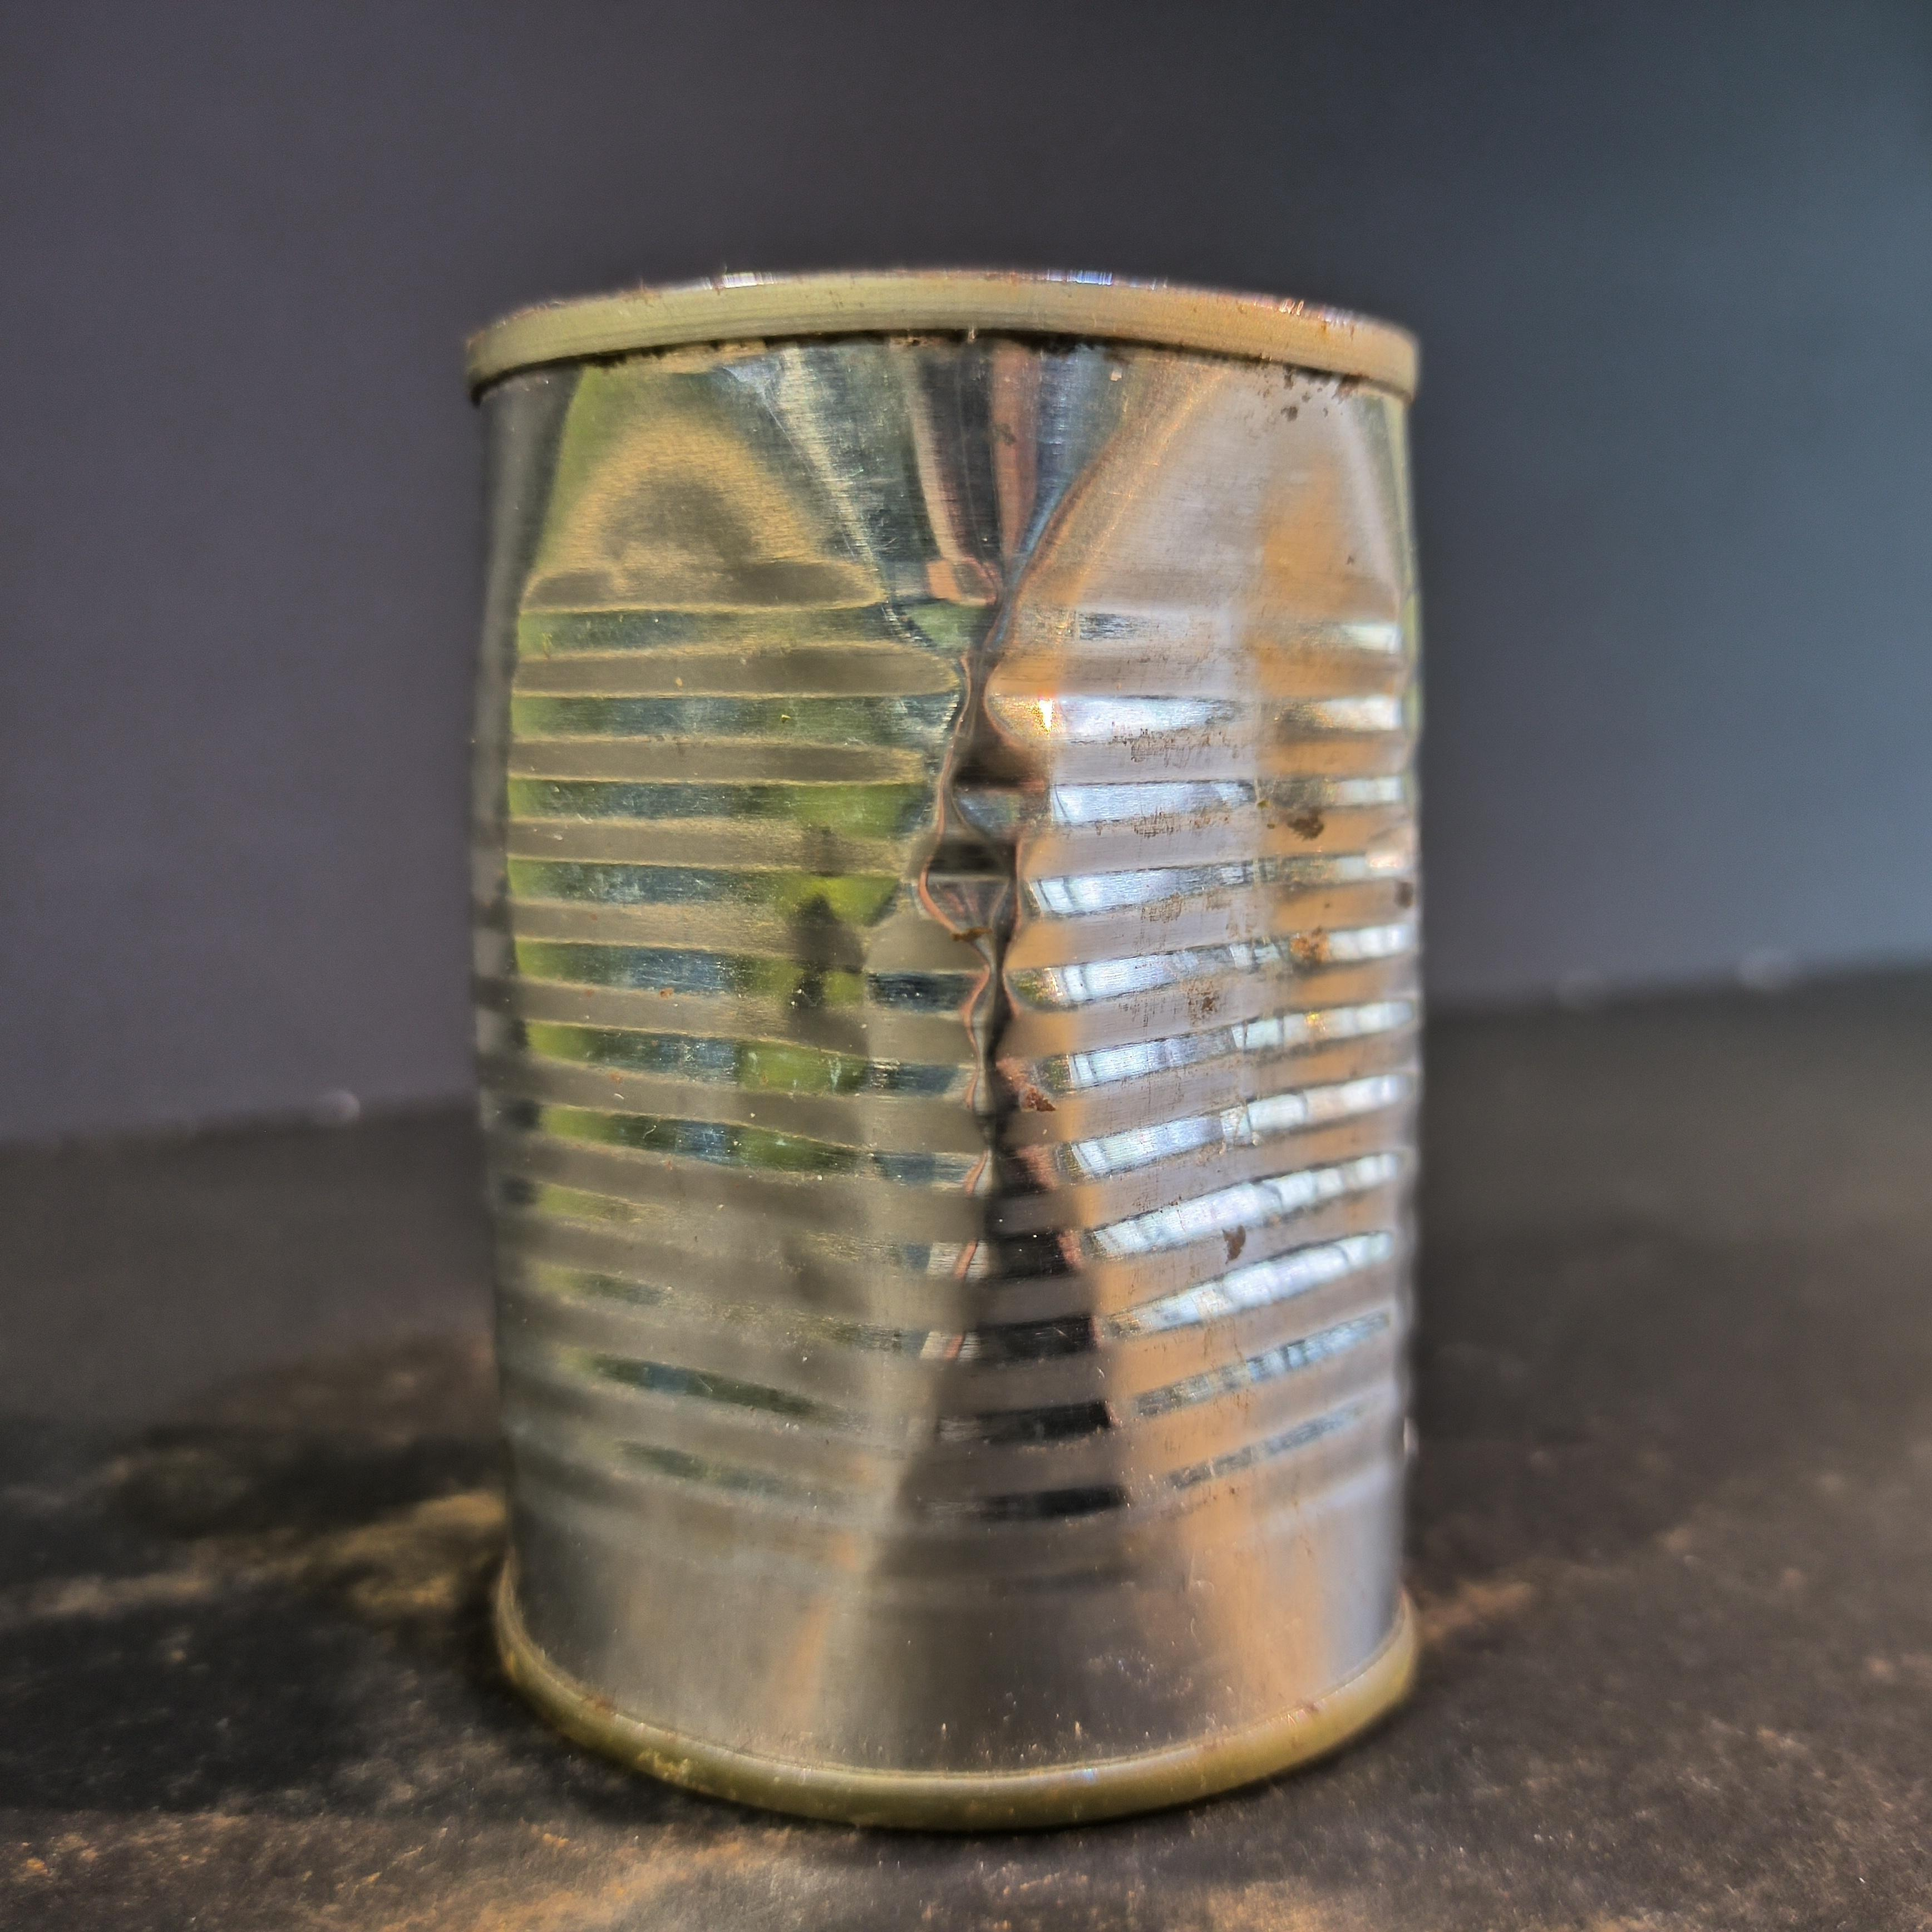Dented: (409, 234, 1463, 1870)
